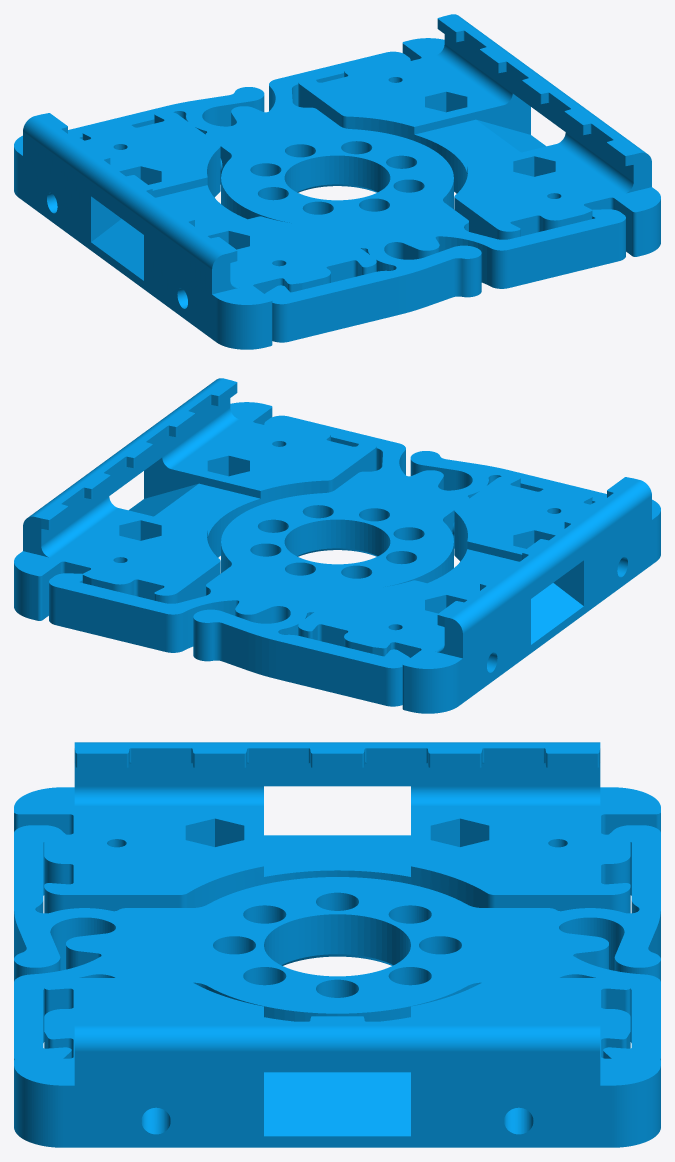
Rendered from la_flg_asm_flat_blu.dae.
3 renders of one model, top to bottom at view 1: azimuth 30°, elevation 25°; view 2: azimuth 150°, elevation 25°; view 3: azimuth 270°, elevation 25°, orthographic. The views are drawn at different scales.
Visible parts, largest first — view 1: la_flg_asm_flat_blu; view 2: la_flg_asm_flat_blu; view 3: la_flg_asm_flat_blu.
Part boxes in pixels (bbox=[...]): la_flg_asm_flat_blu: bbox=[14, 14, 660, 349]; la_flg_asm_flat_blu: bbox=[14, 378, 660, 713]; la_flg_asm_flat_blu: bbox=[14, 742, 660, 1147].
Bounding box in the file's own units: 72 × 66 × 12.8.
